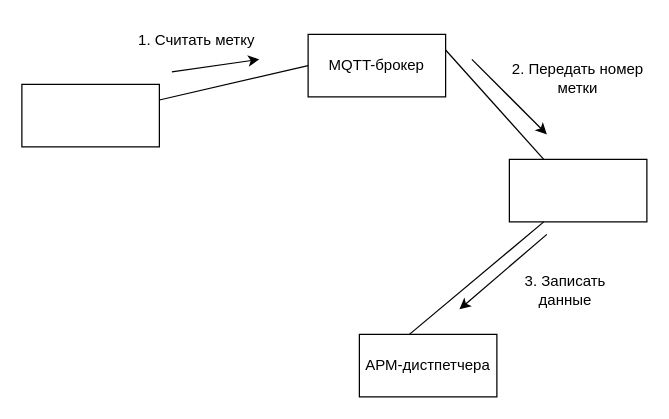
This 669x419 diagram has some shape labels left out. Each missing label, with the centre of its shape:
RIFD-антенна: point (90, 115)
Сервер(БД): point (577, 190)
